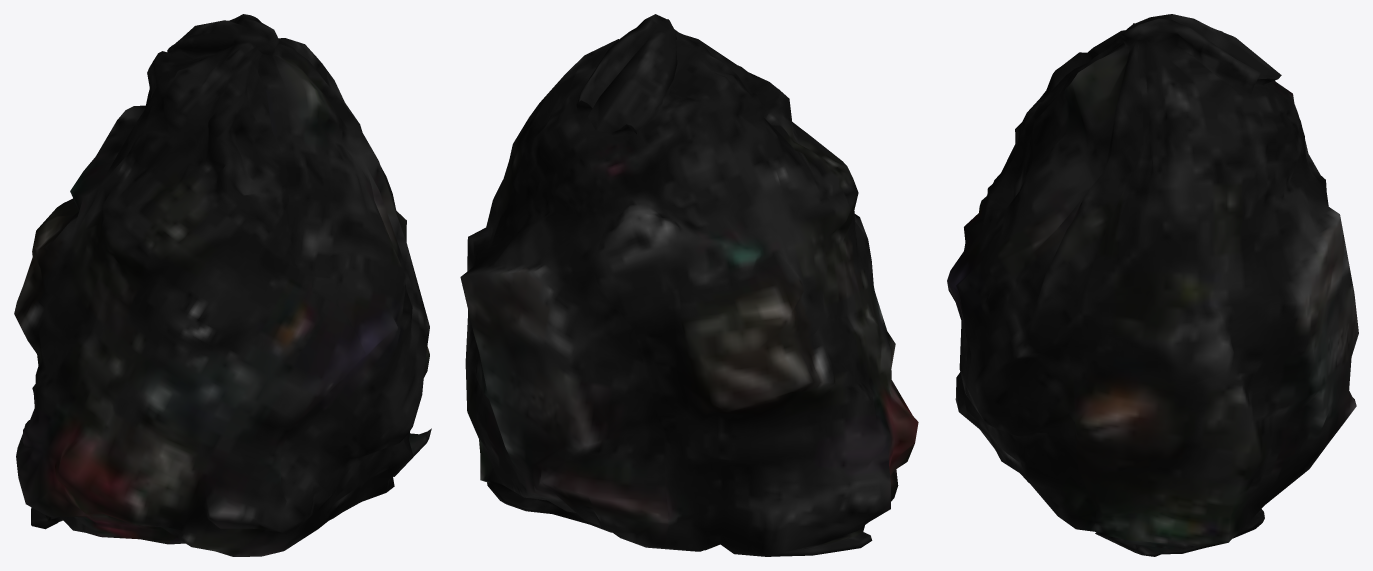
Rendered from trashbag_lod1.glb.
3 views of the same model, side by side, from view 1: azimuth 30°, elevation 25°; view 2: azimuth 150°, elevation 25°; view 3: azimuth 270°, elevation 25° (orthographic). The views are drawn at different scales.
Visible parts, largest first — view 1: trashbag; view 2: trashbag; view 3: trashbag.
Boxes of the visible parts, x1=… form: trashbag: x1=14, y1=14, x2=431, y2=556; trashbag: x1=460, y1=14, x2=918, y2=556; trashbag: x1=947, y1=14, x2=1358, y2=556.
Bounding box in the file's own units: 0.5281 × 0.575 × 0.4629.
Materials: 1 (1 with a texture image).
